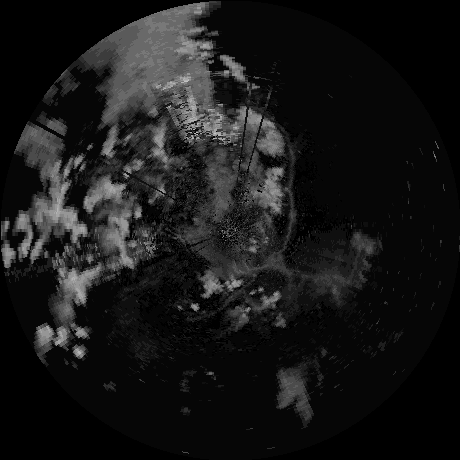frontgust: (183, 279, 255, 323), (256, 190, 295, 271), (283, 133, 298, 186)
